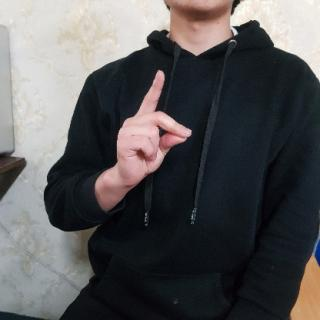TAA: (110, 63, 195, 188)
